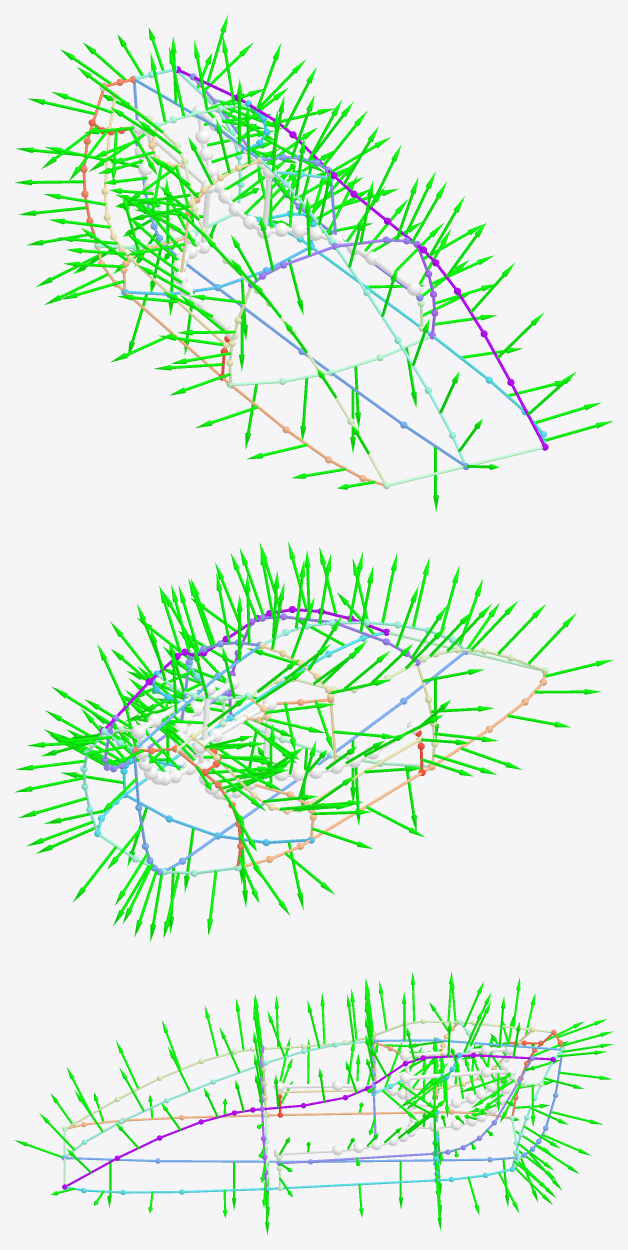
The model's file is t2f_hand_vacuum.gltf.
3 views of the same model, one above another, from view 1: azimuth 30°, elevation 25°; view 2: azimuth 150°, elevation 25°; view 3: azimuth 270°, elevation 25° (orthographic). The views are drawn at different scales.
Bounding box in the file's own units: 0.5217 × 0.4443 × 1.1.
